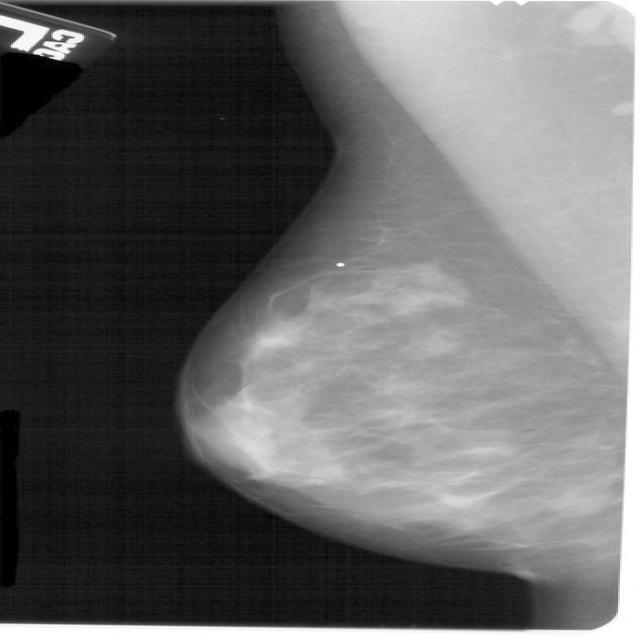tumour: (364, 265, 461, 307)
